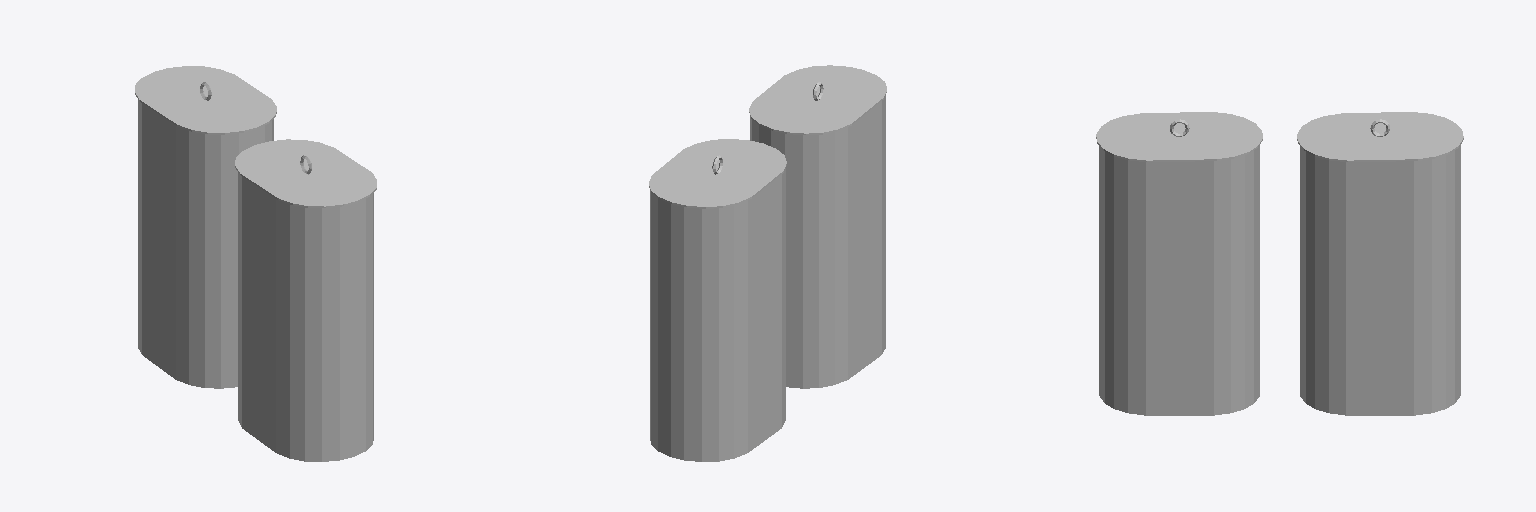
File: basket.obj
3 views of the same model, side by side, from view 1: azimuth 30°, elevation 25°; view 2: azimuth 150°, elevation 25°; view 3: azimuth 270°, elevation 25° (orthographic).
Parts seen in each view (by area): view 1: SM_ClothesBasket, SM_ClothesBasket.001; view 2: SM_ClothesBasket.001, SM_ClothesBasket; view 3: SM_ClothesBasket, SM_ClothesBasket.001.
Boxes of the visible parts, x1,y1,x2,y2 form: SM_ClothesBasket: [235, 139, 376, 461]; SM_ClothesBasket.001: [135, 66, 276, 388]; SM_ClothesBasket.001: [649, 139, 786, 461]; SM_ClothesBasket: [749, 65, 886, 388]; SM_ClothesBasket: [1096, 112, 1262, 415]; SM_ClothesBasket.001: [1297, 112, 1463, 415].
Bounding box in the file's own units: 0.2872 × 0.7517 × 0.9155.